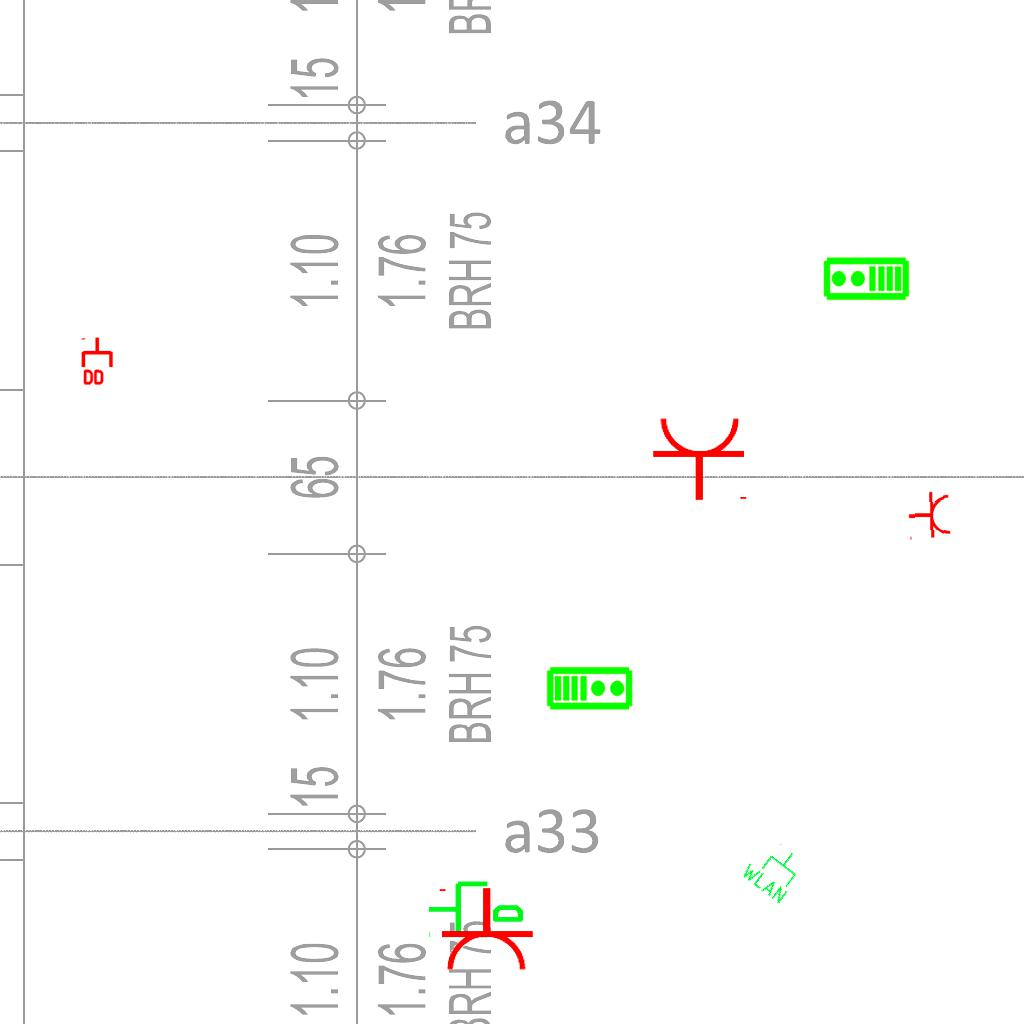Datenanschluss_einfach: (426, 873, 526, 942)
Datenanschluss_zweifach: (81, 336, 115, 387)
Gegensprechanlage_mit_Video: (822, 256, 910, 303), (546, 664, 634, 711)
Schukosteckdose_einfach: (651, 415, 751, 502), (435, 886, 535, 973), (907, 490, 952, 542)
WLAN: (737, 833, 811, 907)
